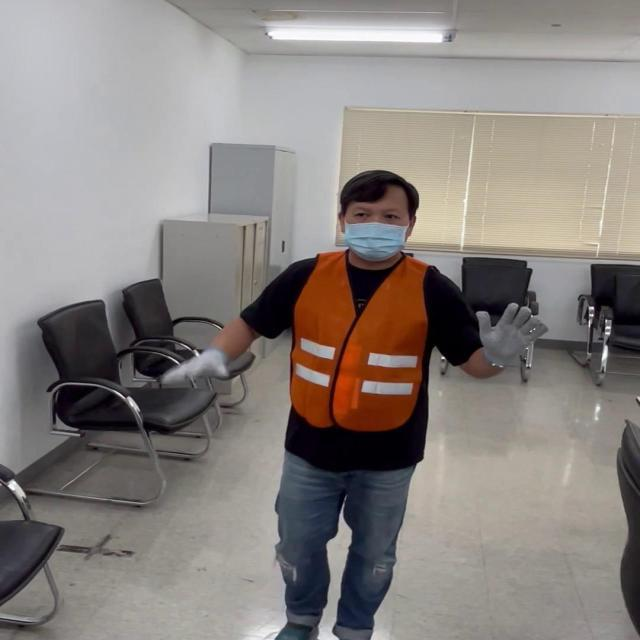gloved_hand: (464, 294, 544, 364), (166, 342, 229, 388)
